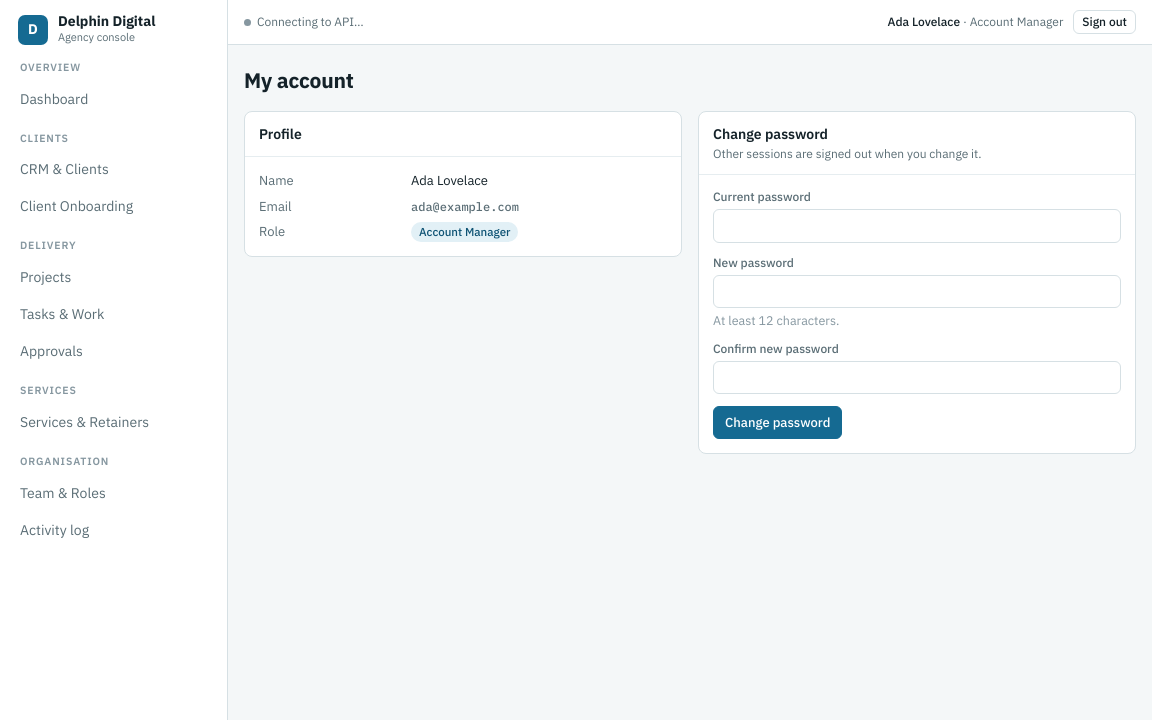
Scenario: account › shows the profile and checks the new password
The width and height of the screenshot is (1152, 720).
Check: the heading "My account" is shown, box [244,67,354,93]
Check: the text "Account Manager" is shown, box [411,222,518,242]
In the password field labelled "Current password": (917, 226) [713,209,1121,243], type "old-password"
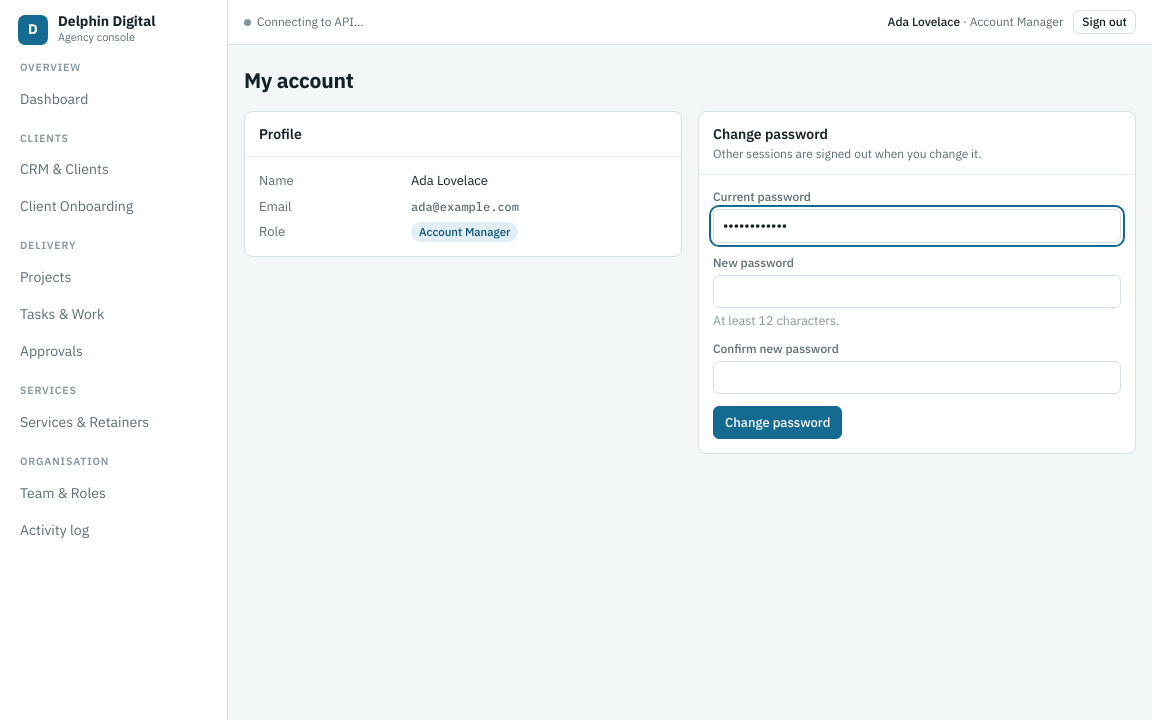
In the password field labelled "New password": (917, 291) [713,275,1121,308], type "short"
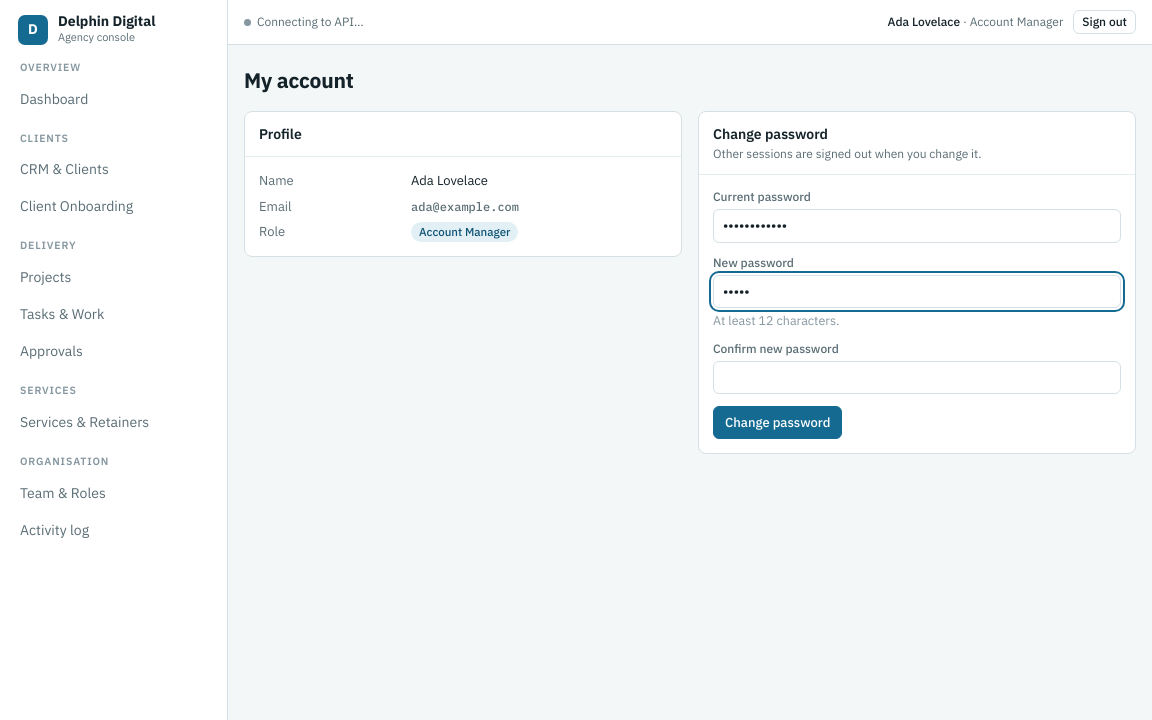
In the password field labelled "Confirm new password": (917, 377) [713,361,1121,394], type "different"
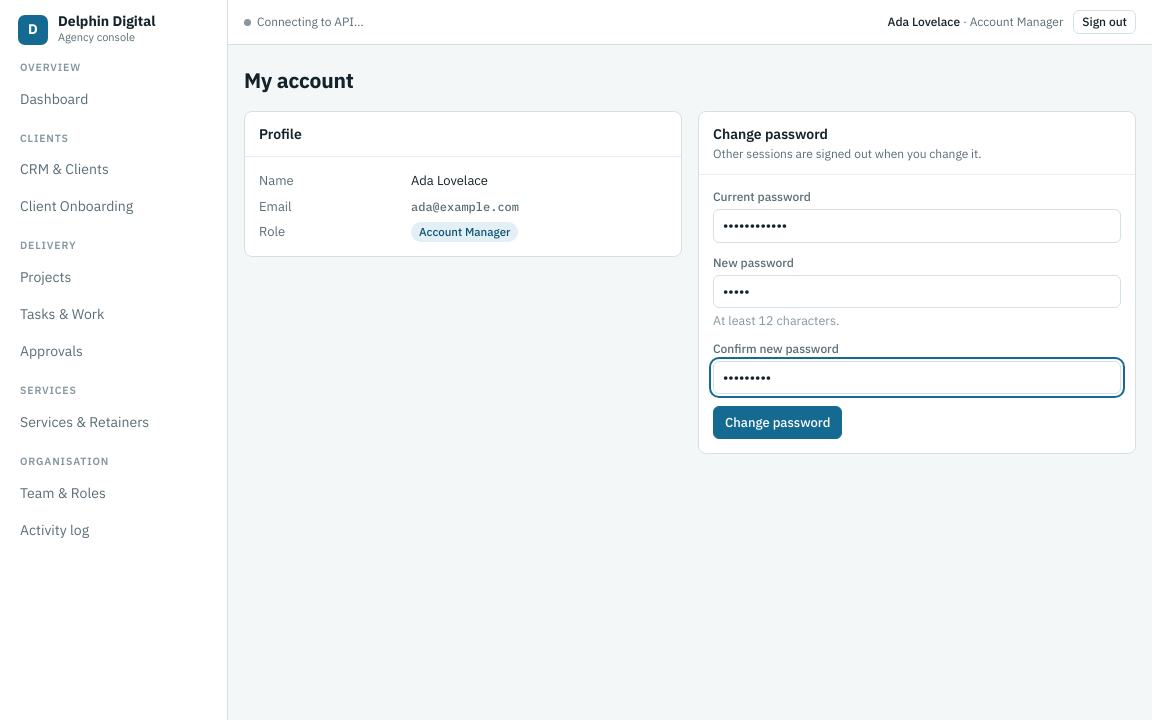
Click the button "Change password": click(778, 423) [713,406,842,439]
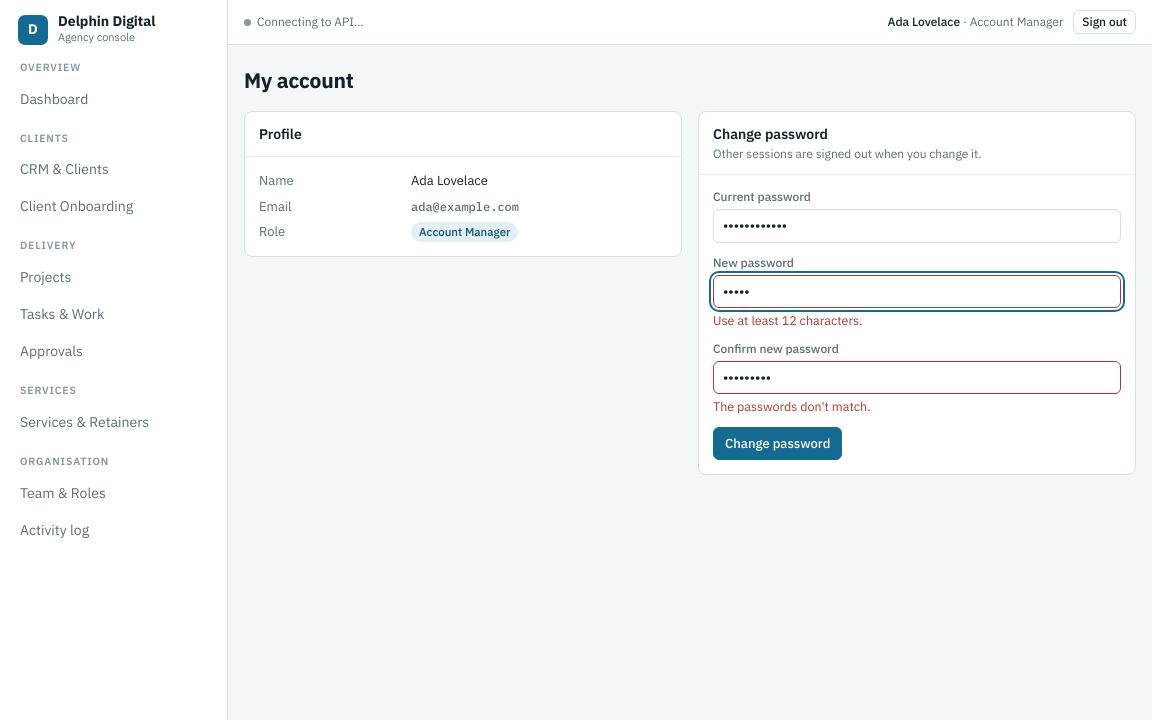
Check: the text "Use at least 12 characters." is shown, box [713,312,862,328]
Check: the text "The passwords don't match." is shown, box [713,398,871,414]
